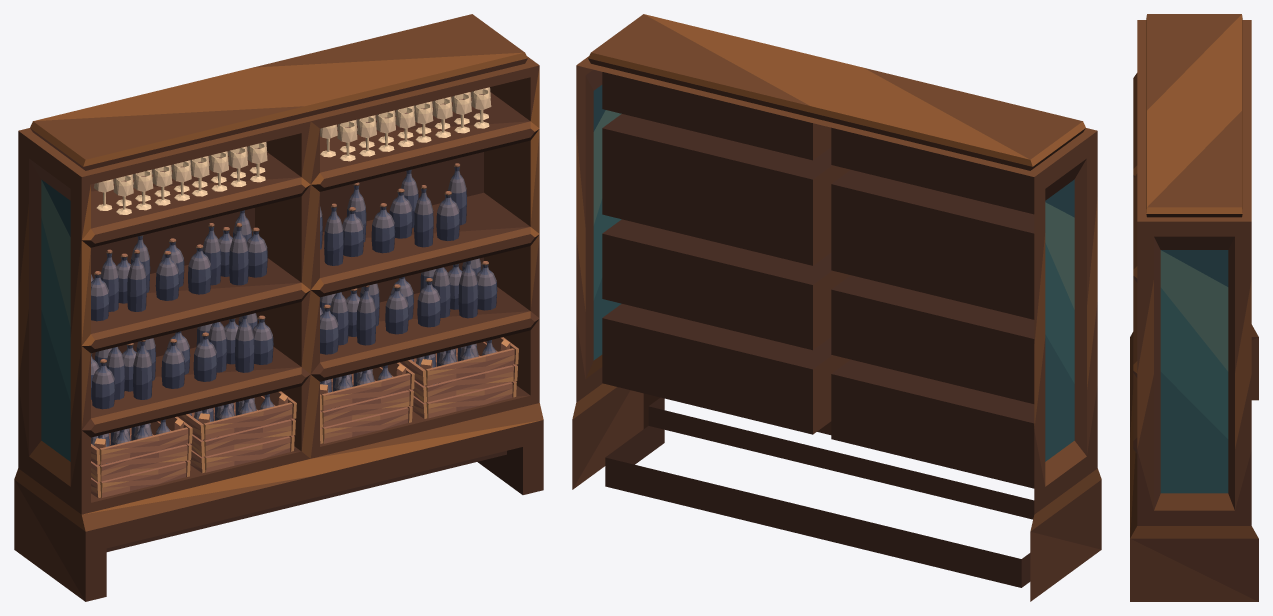
Rendered from full_cabinet_behind_bar_desk.fbx.
3 renders of one model, left to right at view 1: azimuth 30°, elevation 25°; view 2: azimuth 150°, elevation 25°; view 3: azimuth 270°, elevation 25°, orthographic. The views are drawn at different scales.
Parts seen in each view (by area): view 1: full_cabinet_behind_bar_desk; view 2: full_cabinet_behind_bar_desk; view 3: full_cabinet_behind_bar_desk.
Part boxes in pixels (<box>): full_cabinet_behind_bar_desk: <box>14,14,543,601</box>; full_cabinet_behind_bar_desk: <box>572,14,1101,601</box>; full_cabinet_behind_bar_desk: <box>1130,14,1258,601</box>.
Size of the model in its own units: 250 by 226 by 67.45.
